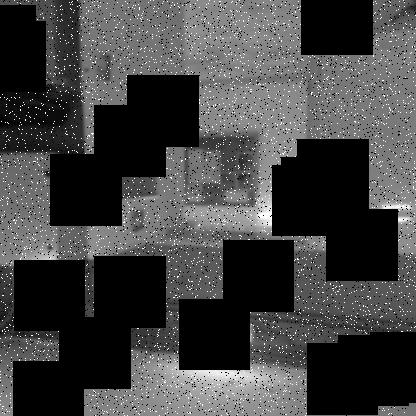Porte: (76, 1, 324, 263)
